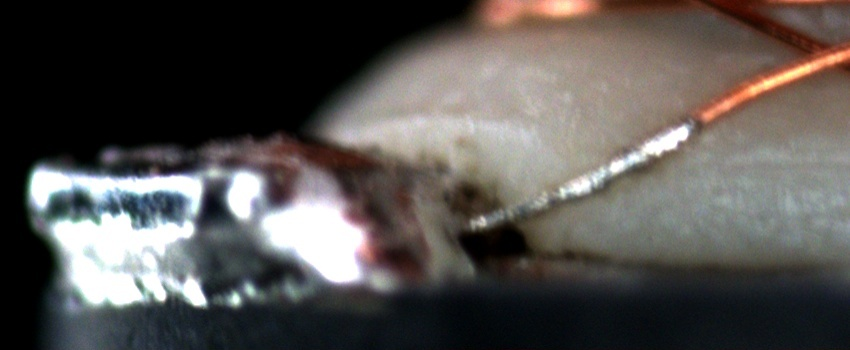CL: (776, 27, 848, 83)
DL: (681, 131, 850, 195)
TS: (466, 119, 700, 232)
